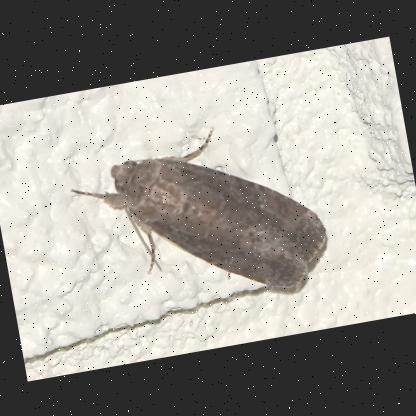Fall Armyworm Moth: (62, 107, 336, 324)
